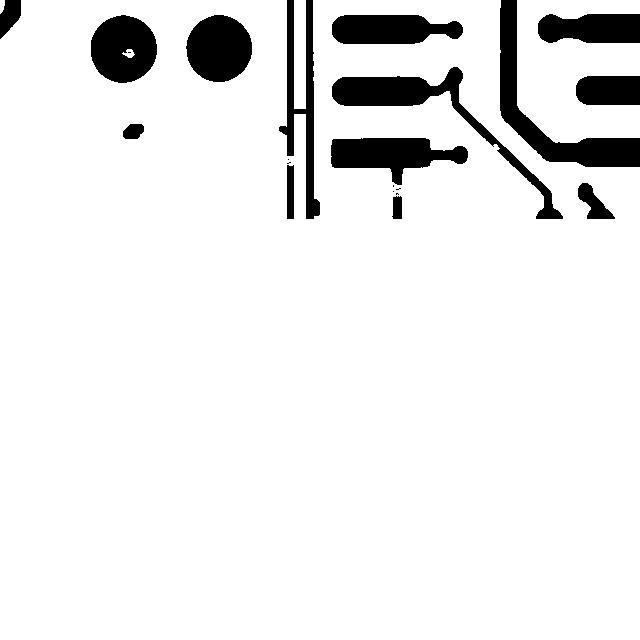copper: (113, 114, 153, 148)
mousebite: (479, 134, 509, 159)
open: (373, 172, 419, 206), (273, 146, 304, 175)
pin-hole: (112, 39, 144, 67)
short: (282, 99, 321, 123)
spur: (301, 189, 329, 225), (269, 116, 299, 144)
